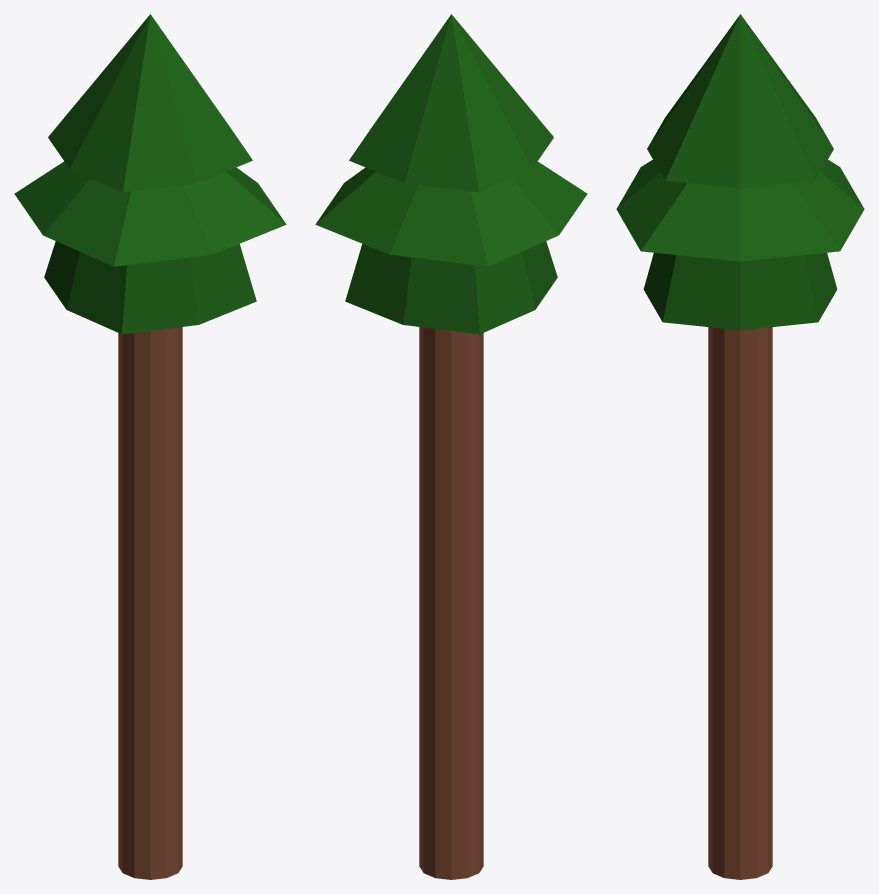
File: Tree_20_autumn_mat.fbx
3 views of the same model, side by side, from view 1: azimuth 30°, elevation 25°; view 2: azimuth 150°, elevation 25°; view 3: azimuth 270°, elevation 25° (orthographic).
Visible parts, largest first — view 1: Tree_20_autumn_mat; view 2: Tree_20_autumn_mat; view 3: Tree_20_autumn_mat.
Boxes of the visible parts, left/top/right/bottom form: Tree_20_autumn_mat: left=14, top=14, right=286, bottom=879; Tree_20_autumn_mat: left=315, top=14, right=587, bottom=879; Tree_20_autumn_mat: left=616, top=14, right=864, bottom=879.
Bounding box in the file's own units: 342 × 1297 × 342.
